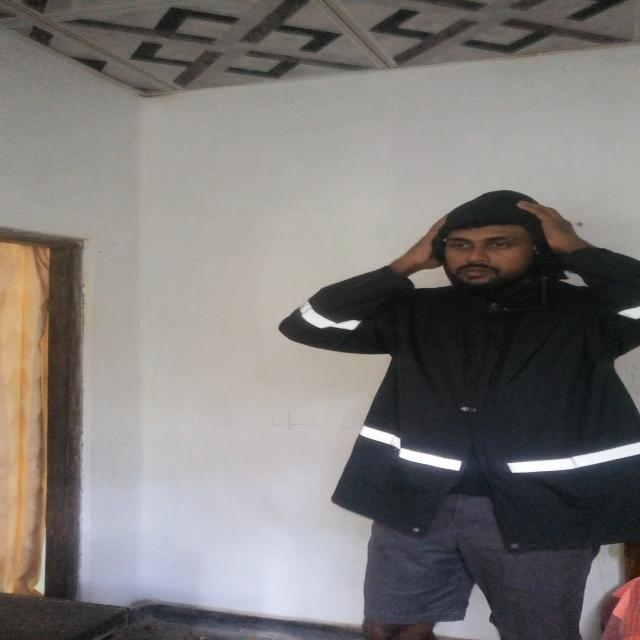Jacket_Wearer: (320, 189, 640, 539)
